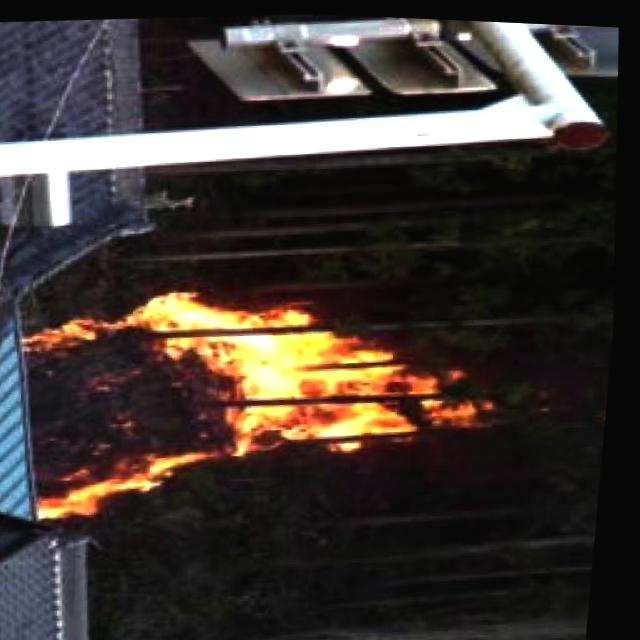helmet: (22, 266, 500, 533)
